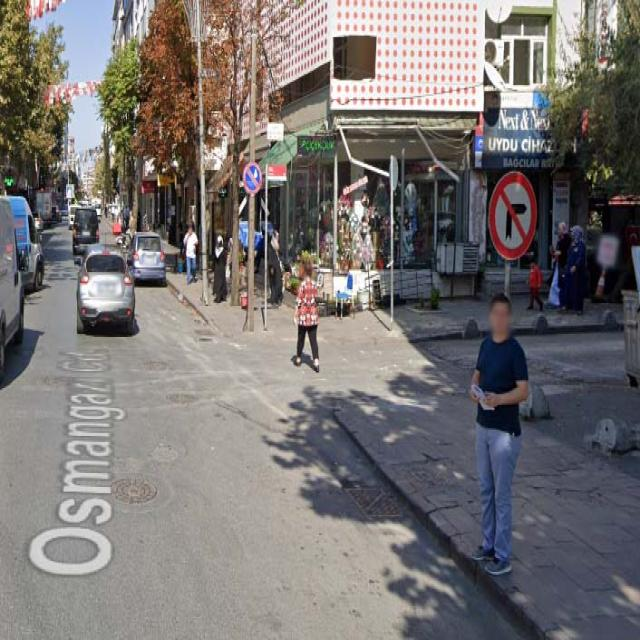parkyasak: (242, 162, 262, 195)
sagadonulmez: (487, 172, 537, 261)
